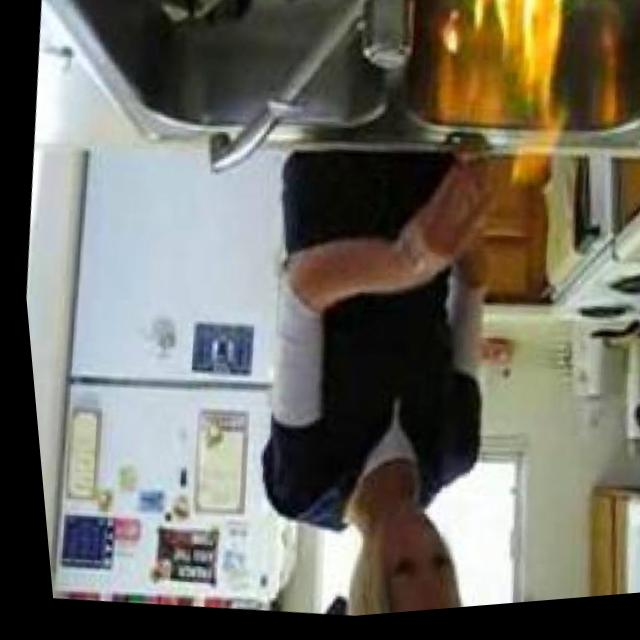Fire: (461, 0, 588, 168)
